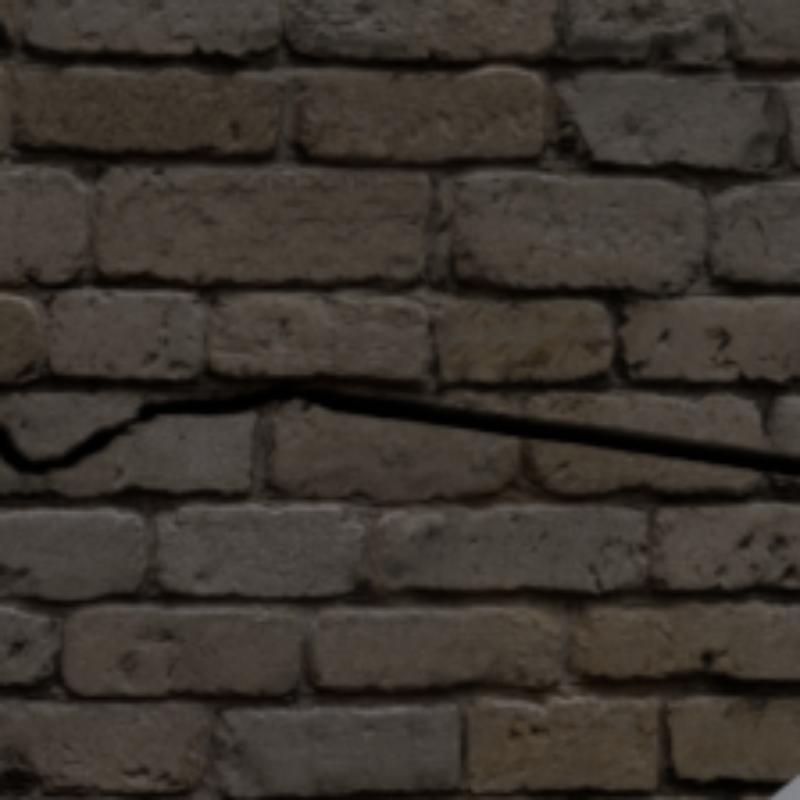pothole: (0, 379, 796, 475)
